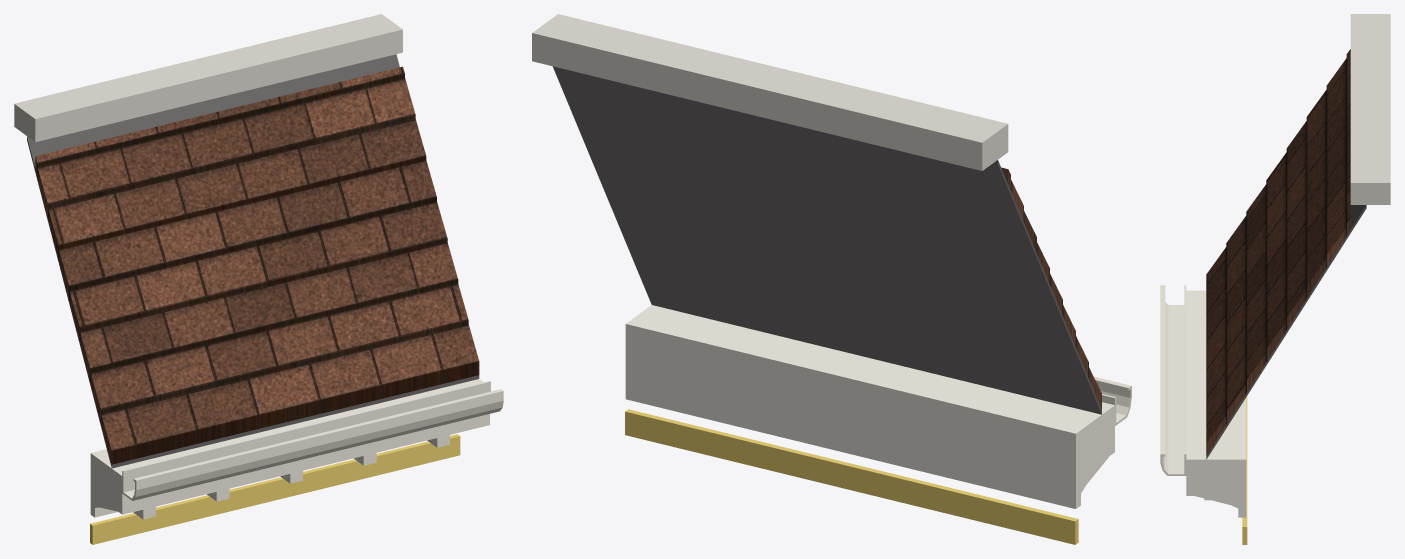
Rendered from mans.glb.
The picture shows the model from 3 angles, left to right: view 1: azimuth 30°, elevation 25°; view 2: azimuth 150°, elevation 25°; view 3: azimuth 270°, elevation 25°; orthographic projection. The views are drawn at different scales.
Visible parts, largest first — view 1: mans_shingles, mans_cill, mans_gutter, mans_trim, mans_dark, mans_accent; view 2: mans_dark, mans_trim, mans_cill, mans_accent, mans_shingles, mans_gutter; view 3: mans_shingles, mans_cill, mans_trim, mans_gutter, mans_dark, mans_accent.
Boxes of the visible parts, <box> form: mans_shingles: <box>35,66,479,464</box>; mans_cill: <box>14,14,402,142</box>; mans_gutter: <box>122,381,503,500</box>; mans_trim: <box>90,379,489,519</box>; mans_dark: <box>27,54,479,468</box>; mans_accent: <box>90,434,460,544</box>; mans_dark: <box>553,66,1101,414</box>; mans_trim: <box>625,305,1114,508</box>; mans_cill: <box>532,14,1008,170</box>; mans_accent: <box>625,409,1078,544</box>; mans_shingles: <box>1001,167,1101,409</box>; mans_gutter: <box>1094,376,1131,425</box>; mans_shingles: <box>1206,49,1350,455</box>; mans_cill: <box>1350,14,1390,204</box>; mans_trim: <box>1186,290,1246,517</box>; mans_gutter: <box>1160,285,1186,475</box>; mans_dark: <box>1206,205,1366,459</box>; mans_accent: <box>1242,396,1247,544</box>.
Size of the model in its own units: 2 by 2 by 1.15.
6 materials, 1 textured.
